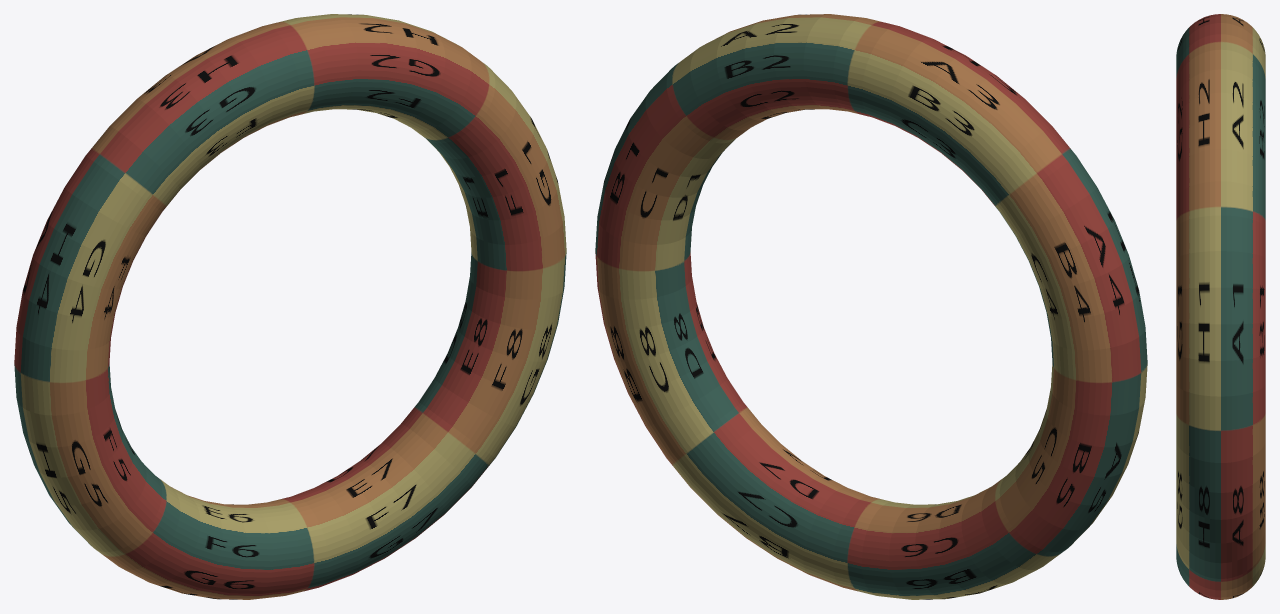
The model's file is texture_torus_R26_r11.glb.
3 views of the same model, side by side, from view 1: azimuth 30°, elevation 25°; view 2: azimuth 150°, elevation 25°; view 3: azimuth 270°, elevation 25° (orthographic). The views are drawn at different scales.
Visible parts, largest first — view 1: world; view 2: world; view 3: world.
Boxes of the visible parts, left/top/right/bottom form: world: left=14, top=14, right=566, bottom=599; world: left=595, top=14, right=1147, bottom=599; world: left=1176, top=14, right=1265, bottom=599.
Size of the model in its own units: 32.27 by 32.2 by 4.92.
1 material, 1 textured.
